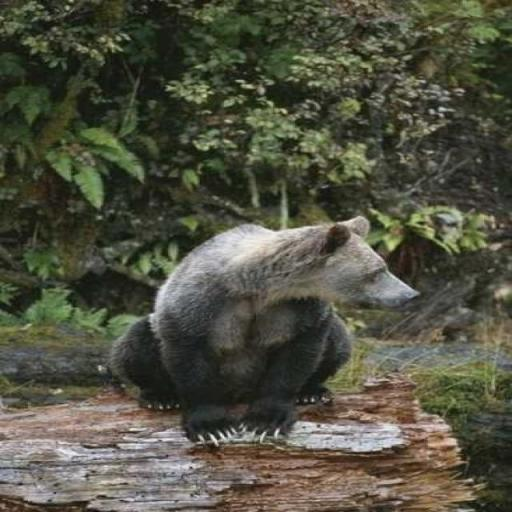Bear: (106, 214, 421, 445)
